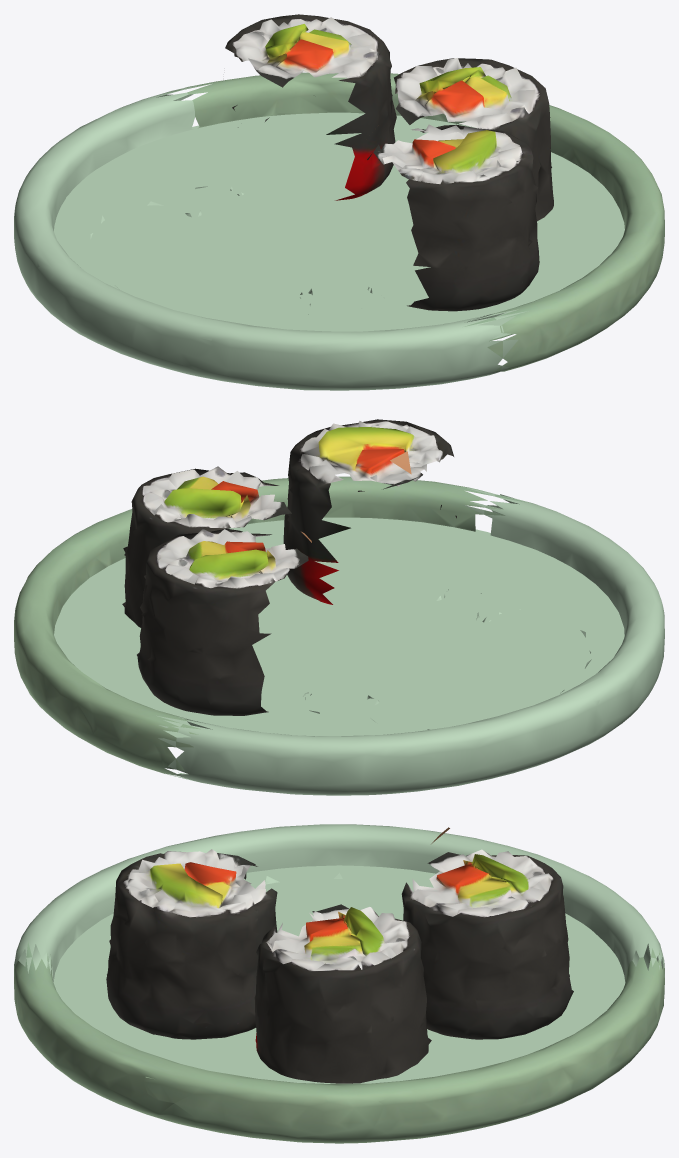
Rendered from kitchen-sushi-maki-v2.glb.
The picture shows the model from 3 angles, top to bottom: view 1: azimuth 30°, elevation 25°; view 2: azimuth 150°, elevation 25°; view 3: azimuth 270°, elevation 25°; orthographic projection.
Visible parts, largest first — view 1: Ceramic_interior_repair, Three_matching_nori_maki_rolls_on_original_plate, Clean_rear_rim_from_Tripo_front; view 2: Ceramic_interior_repair, Three_matching_nori_maki_rolls_on_original_plate, Clean_rear_rim_from_Tripo_front; view 3: Three_matching_nori_maki_rolls_on_original_plate, Ceramic_interior_repair, Clean_rear_rim_from_Tripo_front.
Part boxes in pixels (x1,y1,x2,y2): Ceramic_interior_repair: (54,112,624,339); Three_matching_nori_maki_rolls_on_original_plate: (90,14,664,371); Clean_rear_rim_from_Tripo_front: (14,85,528,390); Ceramic_interior_repair: (54,517,624,737); Three_matching_nori_maki_rolls_on_original_plate: (14,419,591,776); Clean_rear_rim_from_Tripo_front: (158,487,664,795); Three_matching_nori_maki_rolls_on_original_plate: (14,827,664,1143); Ceramic_interior_repair: (50,865,625,1083); Clean_rear_rim_from_Tripo_front: (14,824,664,994).
Size of the model in its own units: 1 by 0.3088 by 0.9987.
Materials: 2 (1 with a texture image).
